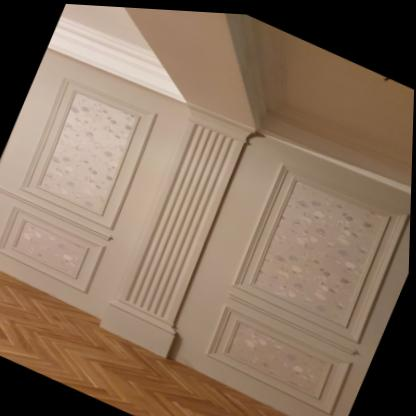Futec frame: (198, 148, 413, 416), (0, 65, 170, 304)
